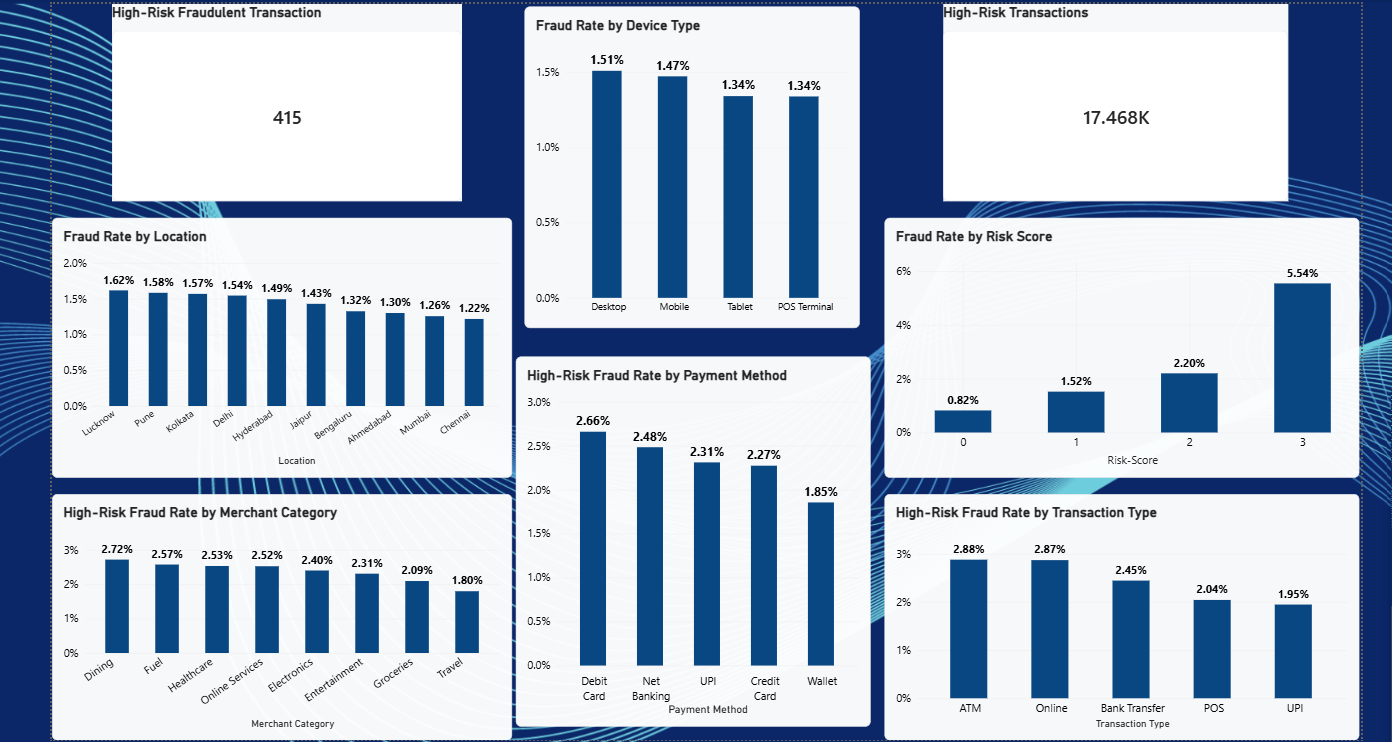

The dashboard page shown, as its layout file describes it:
{"tool":"powerbi","page":{"name":"Risk Analysis","canvas":[1920,1080],"ordinal":1},"visuals":[{"type":"clusteredColumnChart","title":"Fraud Rate by Risk Score","fields":{"Category":["banking_fraud_processed_final (2).risk_score"],"Y":["banking_fraud_processed_final (2).Fraud Rate %"]},"box":[1221.6,313.7,697,381.5],"z":0},{"type":"clusteredColumnChart","title":"Fraud Rate by Location","fields":{"Category":["banking_fraud_processed_final (2).location"],"Y":["banking_fraud_processed_final (2).Fraud Rate %"]},"box":[0,313.1,675,381.8],"z":1000},{"type":"clusteredColumnChart","title":"Fraud Rate by Device Type","fields":{"Category":["banking_fraud_processed_final (2).device_type"],"Y":["banking_fraud_processed_final (2).Fraud Rate %"]},"box":[693.1,3.6,492.2,472.3],"z":2000},{"type":"clusteredColumnChart","title":"High-Risk Fraud Rate by Transaction Type","fields":{"Category":["banking_fraud_processed_final (2).transaction_type"],"Y":["banking_fraud_processed_final (2).Fraud Rate %"]},"box":[1221.6,719,697,361.3],"z":3000},{"type":"clusteredColumnChart","title":"High-Risk Fraud Rate by Payment Method","fields":{"Category":["banking_fraud_processed_final (2).payment_method"],"Y":["banking_fraud_processed_final (2).Fraud Rate %"]},"box":[680.4,517.6,521.2,542.9],"z":4000},{"type":"clusteredColumnChart","title":"High-Risk Fraud Rate by Merchant Category","fields":{"Category":["banking_fraud_processed_final (2).merchant_category"],"Y":["banking_fraud_processed_final (2).Fraud Rate %"]},"box":[0,718.4,675,361.9],"z":5000},{"type":"cardVisual","title":"High-Risk Transactions","fields":{"Data":["CountNonNull(banking_fraud_processed_final (2).transaction_id)"]},"box":[1307.8,0,506.3,289.8],"z":6000},{"type":"cardVisual","title":"High-Risk Fraudulent Transaction","fields":{"Data":["banking_fraud_processed_final (2).High-Risk Fraudulent Transactions"]},"box":[88,0,513.6,289.8],"z":7000}]}

Visuals, with their boxes in screenshot pixels (x1, y1, x2, y2):
"Fraud Rate by Risk Score" clusteredColumnChart: (x1=880, y1=213, x2=1353, y2=472)
"Fraud Rate by Location" clusteredColumnChart: (x1=51, y1=212, x2=509, y2=472)
"Fraud Rate by Device Type" clusteredColumnChart: (x1=521, y1=2, x2=855, y2=323)
"High-Risk Fraud Rate by Transaction Type" clusteredColumnChart: (x1=880, y1=488, x2=1353, y2=733)
"High-Risk Fraud Rate by Payment Method" clusteredColumnChart: (x1=512, y1=351, x2=866, y2=720)
"High-Risk Fraud Rate by Merchant Category" clusteredColumnChart: (x1=51, y1=487, x2=509, y2=733)
"High-Risk Transactions" cardVisual: (x1=938, y1=0, x2=1282, y2=197)
"High-Risk Fraudulent Transaction" cardVisual: (x1=110, y1=0, x2=459, y2=197)
